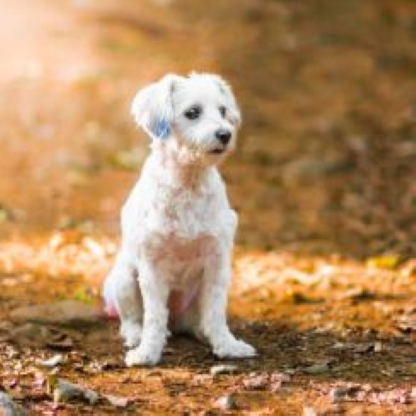maltese: (102, 72, 260, 366)
